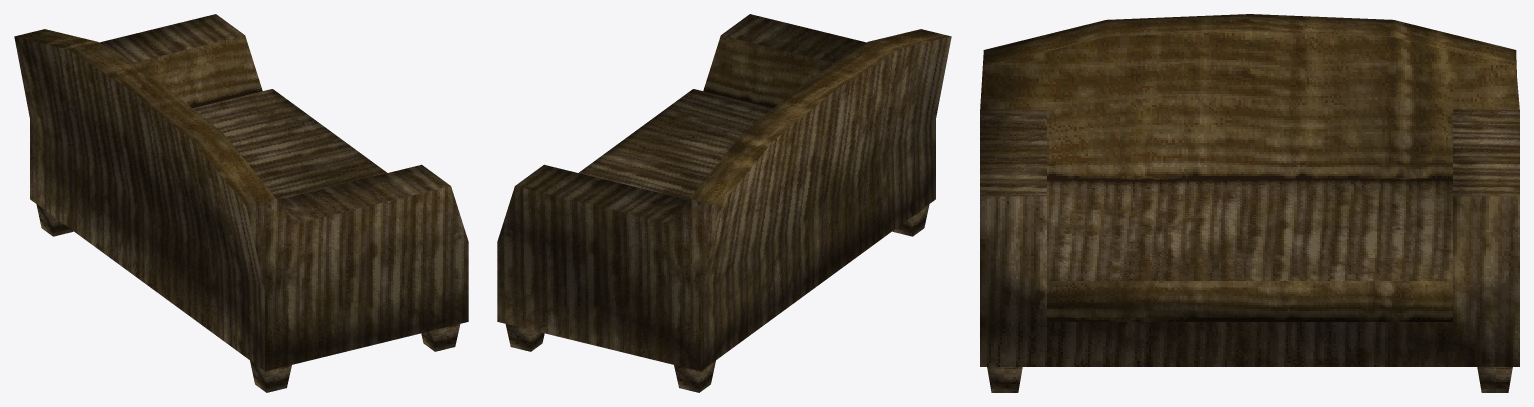
The model's file is psx_couch.glb.
3 renders of one model, left to right at view 1: azimuth 30°, elevation 25°; view 2: azimuth 150°, elevation 25°; view 3: azimuth 270°, elevation 25°, orthographic. The views are drawn at different scales.
Visible parts, largest first — view 1: Couch; view 2: Couch; view 3: Couch.
Boxes of the visible parts, x1,y1,x2,y2 form: Couch: (14, 14, 468, 392); Couch: (497, 14, 951, 392); Couch: (980, 14, 1519, 392).
Bounding box in the file's own units: 0.9072 × 0.8504 × 1.6.
Materials: 1 (1 with a texture image).
